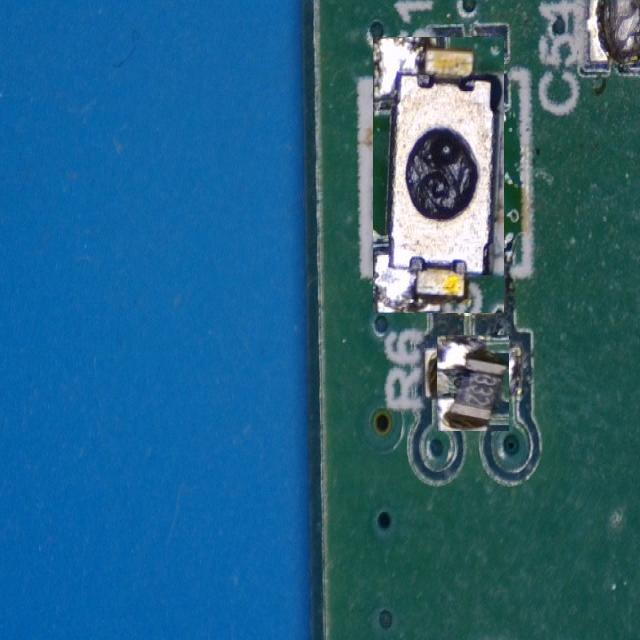Incorrect_installation: (373, 38, 504, 313), (437, 335, 509, 431)
